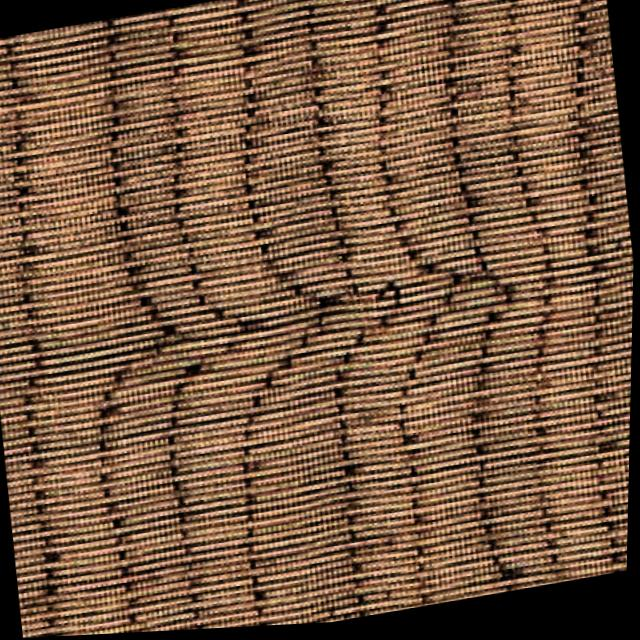Stitch: (72, 230, 260, 427)
